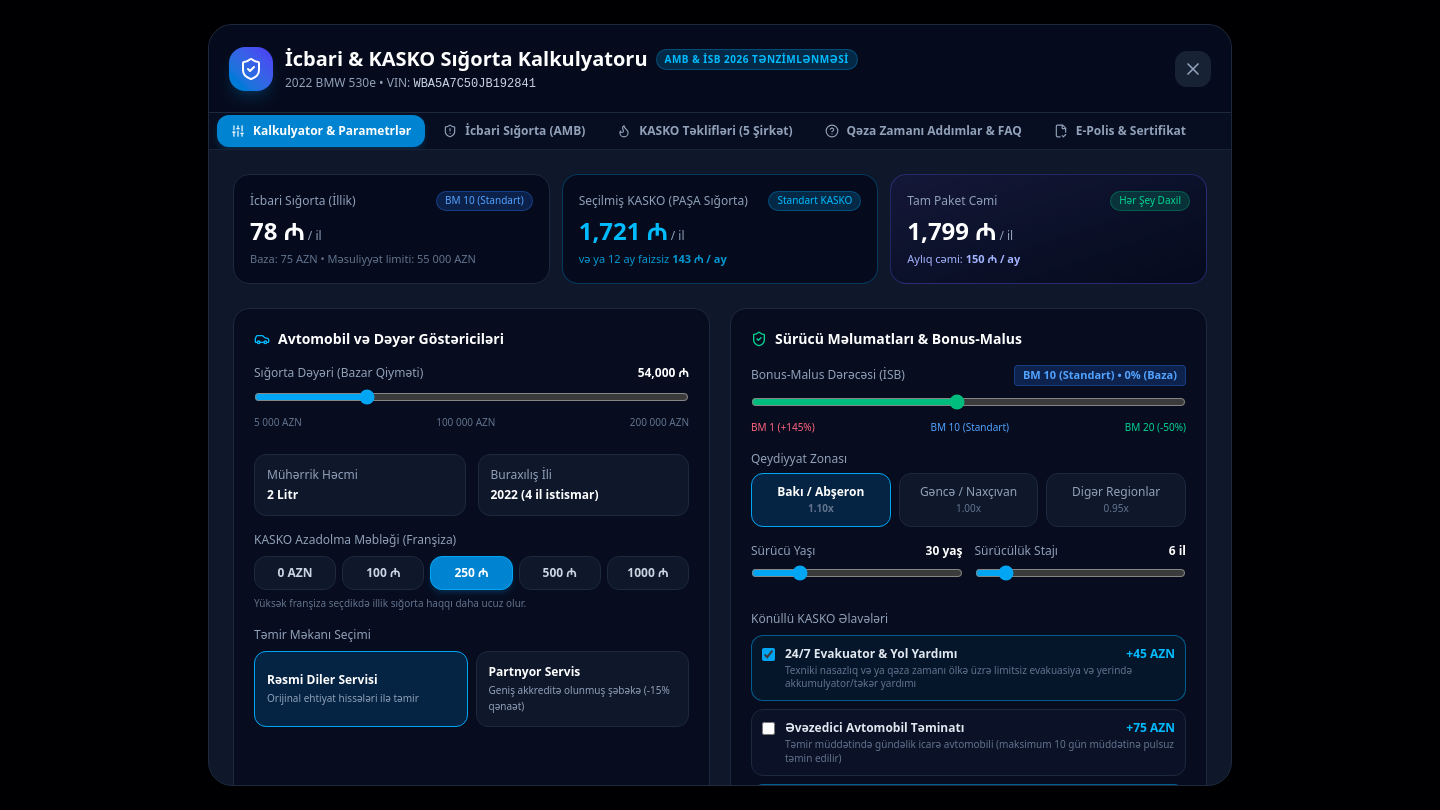
Test: InsuranceCalculatorModal Component › adjusts Bonus-Malus slider and updates badge in calculator tab
First range is car price, second is BM
Set the slider below "Bonus-Malus Dərəcəsi (İSB)" to "18": (1134, 402) 751,394 -> 1186,410
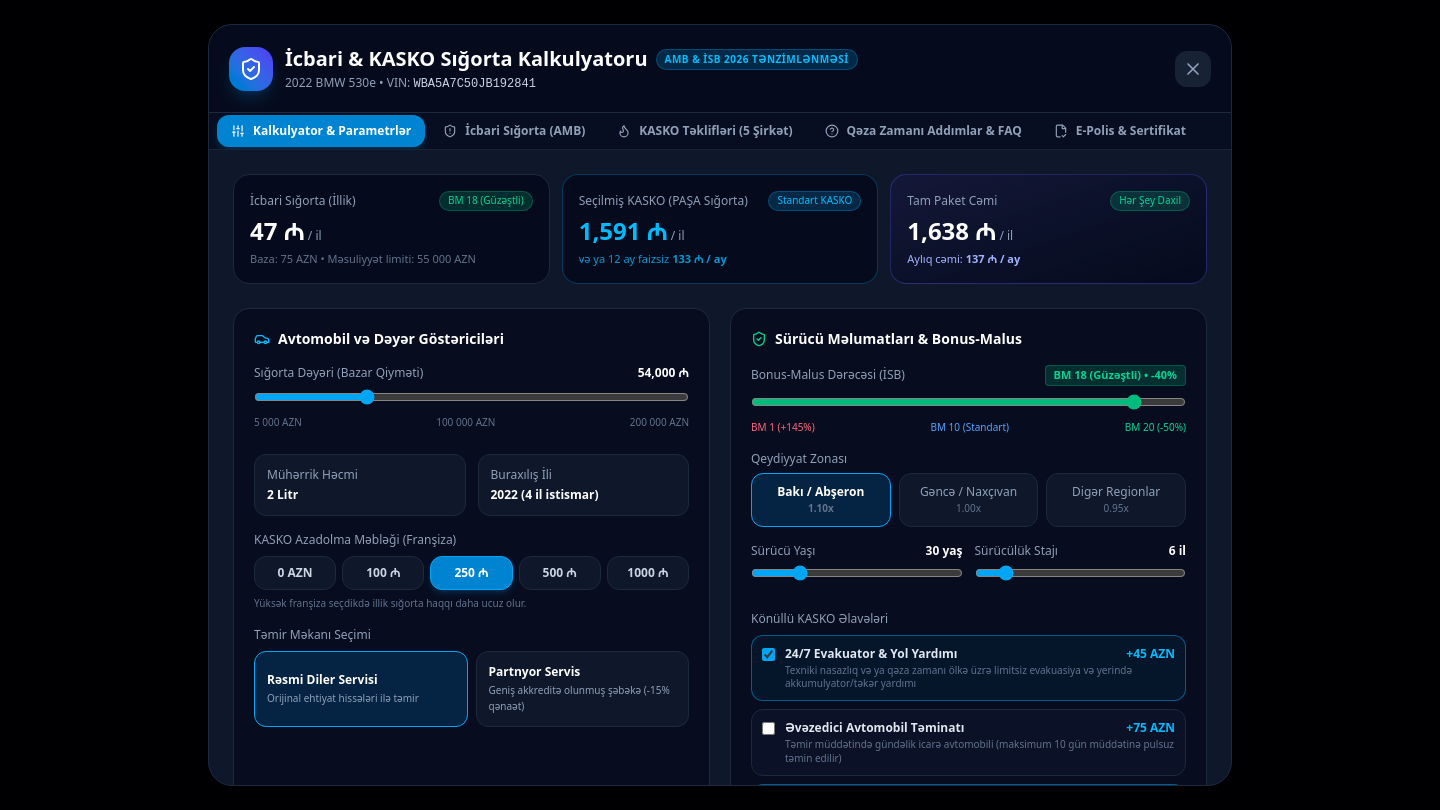
Expected: the text "BM 18 (Güzəştli)" is shown, 439,191 -> 533,210
